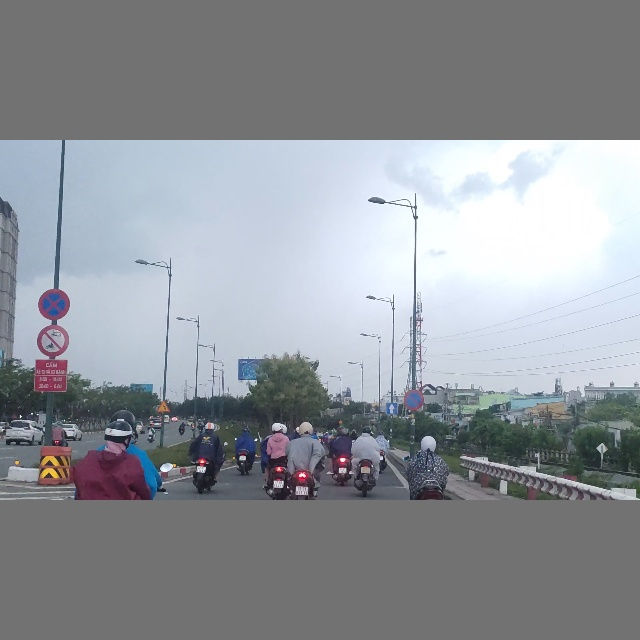I.407a: (386, 403, 397, 415)
P.111: (36, 324, 70, 357)
P.130: (38, 289, 70, 320)
P.131a: (404, 389, 424, 409)
W.201a: (157, 400, 170, 412)
